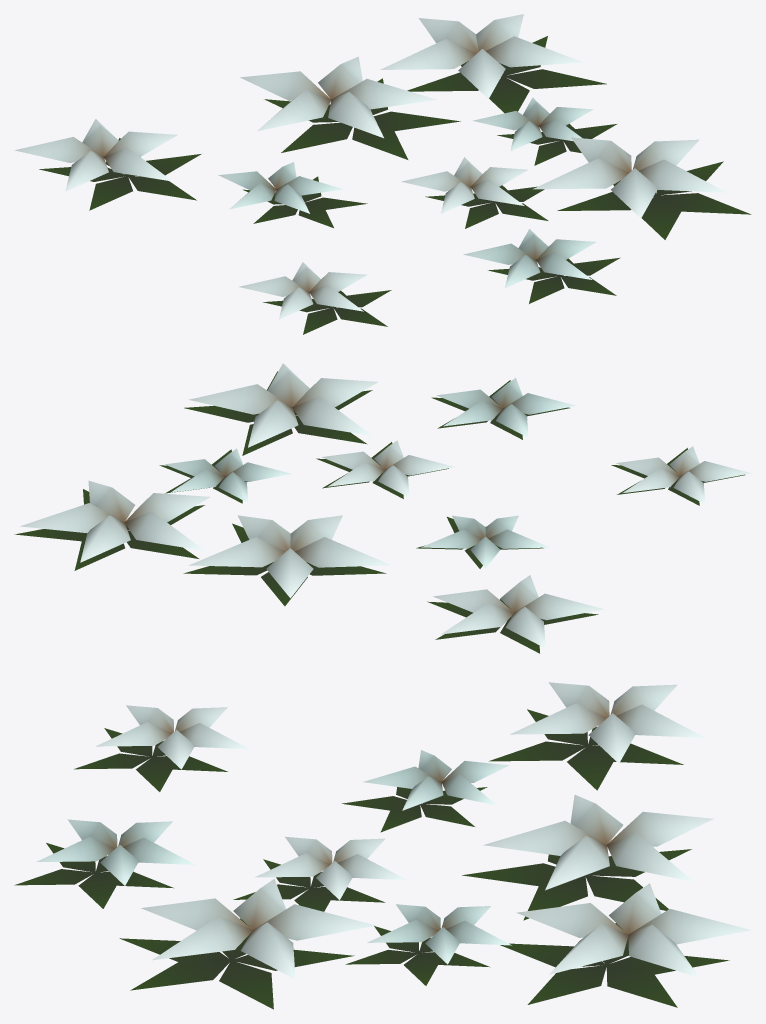
The model's file is deco_flowerBig_white.FBX.
The picture shows the model from 3 angles, top to bottom: view 1: azimuth 30°, elevation 25°; view 2: azimuth 150°, elevation 25°; view 3: azimuth 270°, elevation 25°; orthographic projection. The views are drawn at different scales.
Parts seen in each view (by area): view 1: deco_flowerBig_white; view 2: deco_flowerBig_white; view 3: deco_flowerBig_white.
Boxes of the visible parts, x1,y1,x2,y2 form: deco_flowerBig_white: (14,14,751,334); deco_flowerBig_white: (14,363,751,653); deco_flowerBig_white: (14,682,751,1009).
Bounding box in the file's own units: 1.87 × 0.1303 × 1.88.
1 material, 1 textured.
